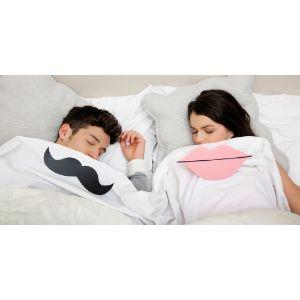sleep: (73, 121, 110, 159), (188, 116, 225, 144)
